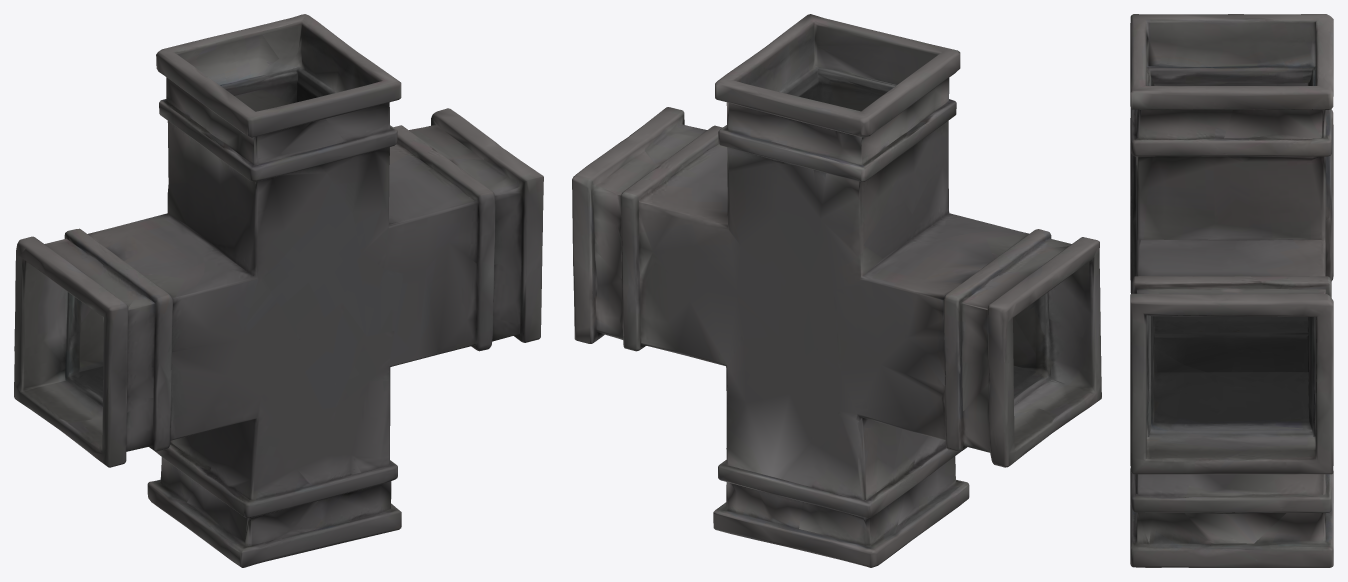
The model's file is joint_duct_X_idle.glb.
The picture shows the model from 3 angles, left to right: view 1: azimuth 30°, elevation 25°; view 2: azimuth 150°, elevation 25°; view 3: azimuth 270°, elevation 25°; orthographic projection. The views are drawn at different scales.
Visible parts, largest first — view 1: tripo_node_7c2b1268-abcc-4066-a7bb-358d368e9994; view 2: tripo_node_7c2b1268-abcc-4066-a7bb-358d368e9994; view 3: tripo_node_7c2b1268-abcc-4066-a7bb-358d368e9994.
Part boxes in pixels (box(x1,y1,x2,y2)): tripo_node_7c2b1268-abcc-4066-a7bb-358d368e9994: box(14, 14, 543, 567); tripo_node_7c2b1268-abcc-4066-a7bb-358d368e9994: box(572, 14, 1101, 567); tripo_node_7c2b1268-abcc-4066-a7bb-358d368e9994: box(1130, 14, 1333, 567).
Bounding box in the file's own units: 1.23 × 1.21 × 0.4657.
Materials: 1 (1 with a texture image).
